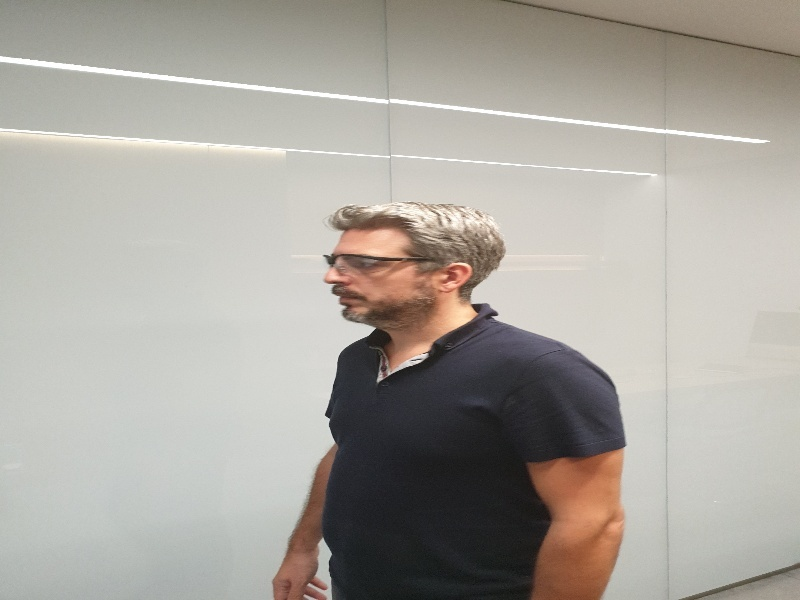Gozluk: (321, 251, 441, 274)
